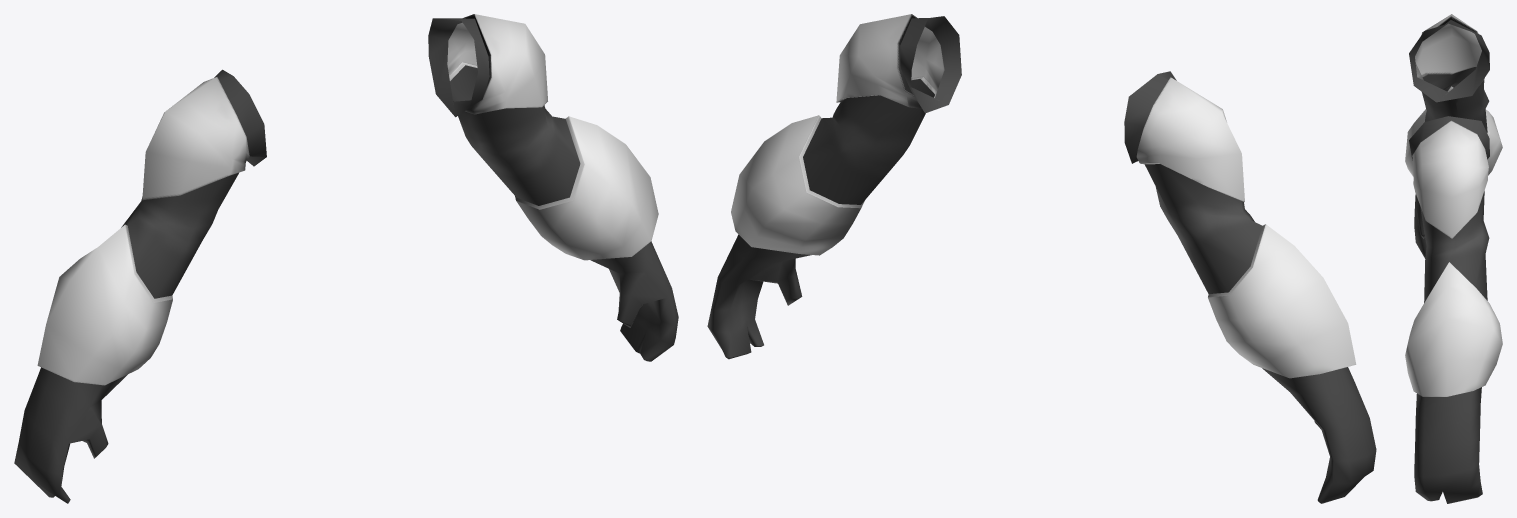
The model's file is astronaut_arms.glb.
3 renders of one model, left to right at view 1: azimuth 30°, elevation 25°; view 2: azimuth 150°, elevation 25°; view 3: azimuth 270°, elevation 25°, orthographic. The views are drawn at different scales.
Visible parts, largest first — view 1: geo_astronautArm_R_01, geo_astronautArm_L_01; view 2: geo_astronautArm_R_01, geo_astronautArm_L_01; view 3: geo_astronautArm_L_01, geo_astronautArm_R_01.
Part boxes in pixels (left/top/right/bottom): geo_astronautArm_R_01: left=14, top=69, right=266, bottom=503; geo_astronautArm_L_01: left=428, top=14, right=678, bottom=361; geo_astronautArm_R_01: left=1124, top=71, right=1376, bottom=503; geo_astronautArm_L_01: left=707, top=14, right=961, bottom=359; geo_astronautArm_L_01: left=1405, top=116, right=1502, bottom=503; geo_astronautArm_R_01: left=1405, top=14, right=1502, bottom=258.
Bounding box in the file's own units: 0.0246 × 0.014 × 0.00391.
Materials: 1 (1 with a texture image).
